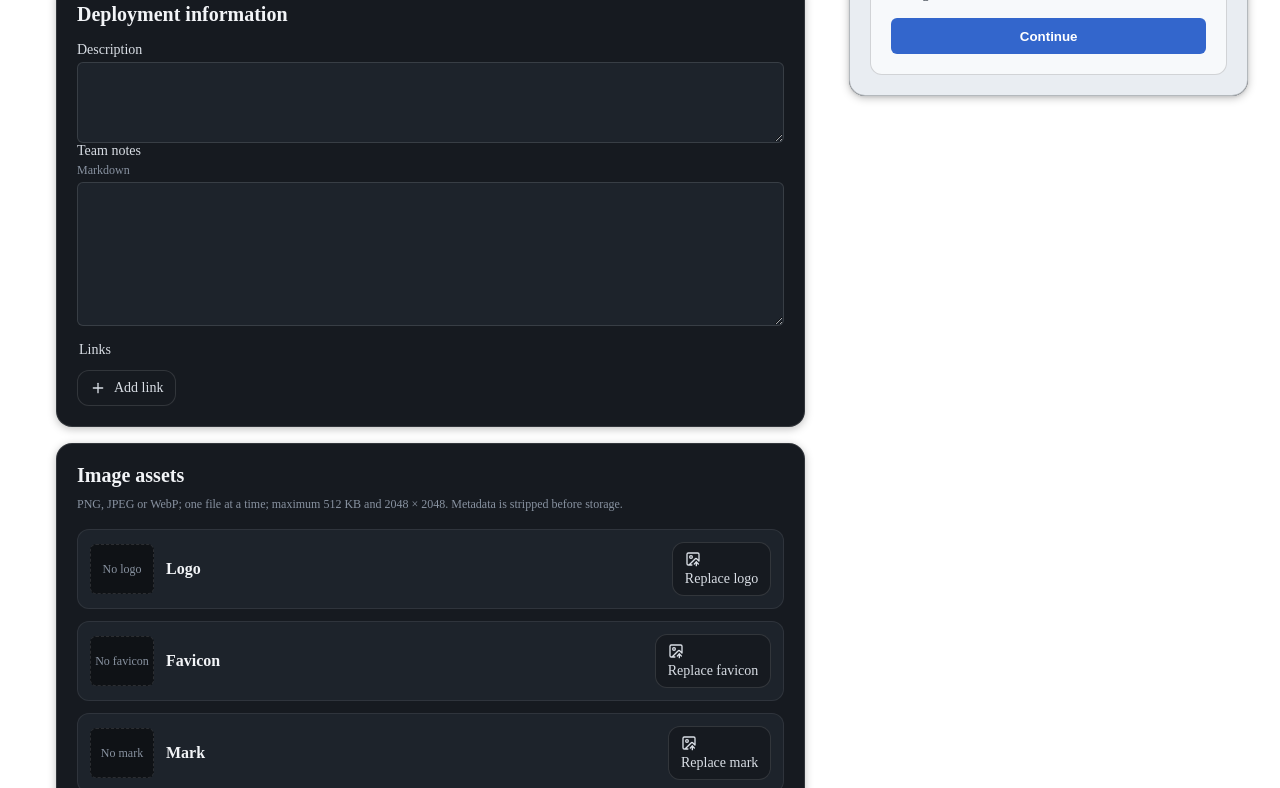
Test case: AppearancePage › supports link rows without icon-only ambiguous controls
The width and height of the screenshot is (1280, 788).
(page scrolled)
What coordinates should you click on to do the following:
click the button "Add link"
I would click on:
 (127, 388)
Its box is [77,370,176,406].
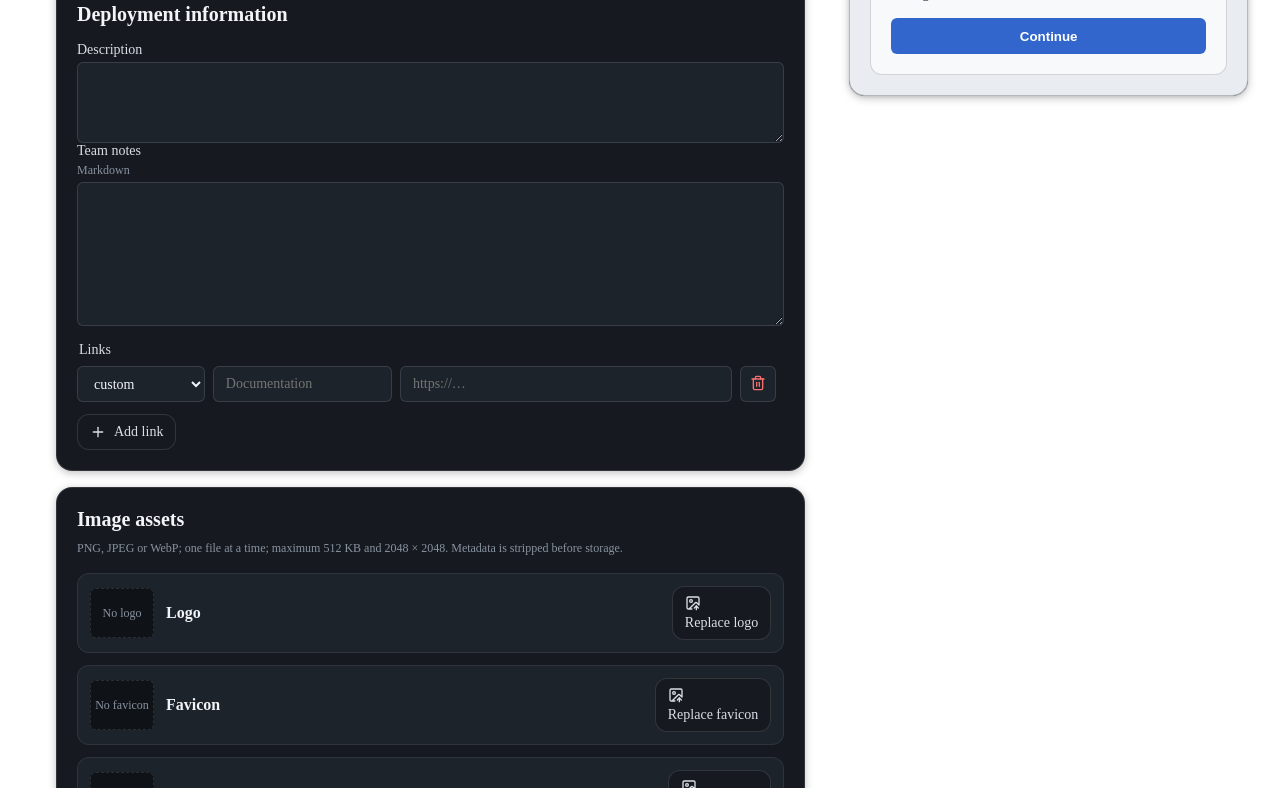
Result: the dropdown named "Link 1 kind" shows "custom" at [77,366,205,402]
Result: the field named "Link 1 label" is shown at [213,366,392,402]
Result: the field named "Link 1 URL" is shown at [400,366,732,402]
